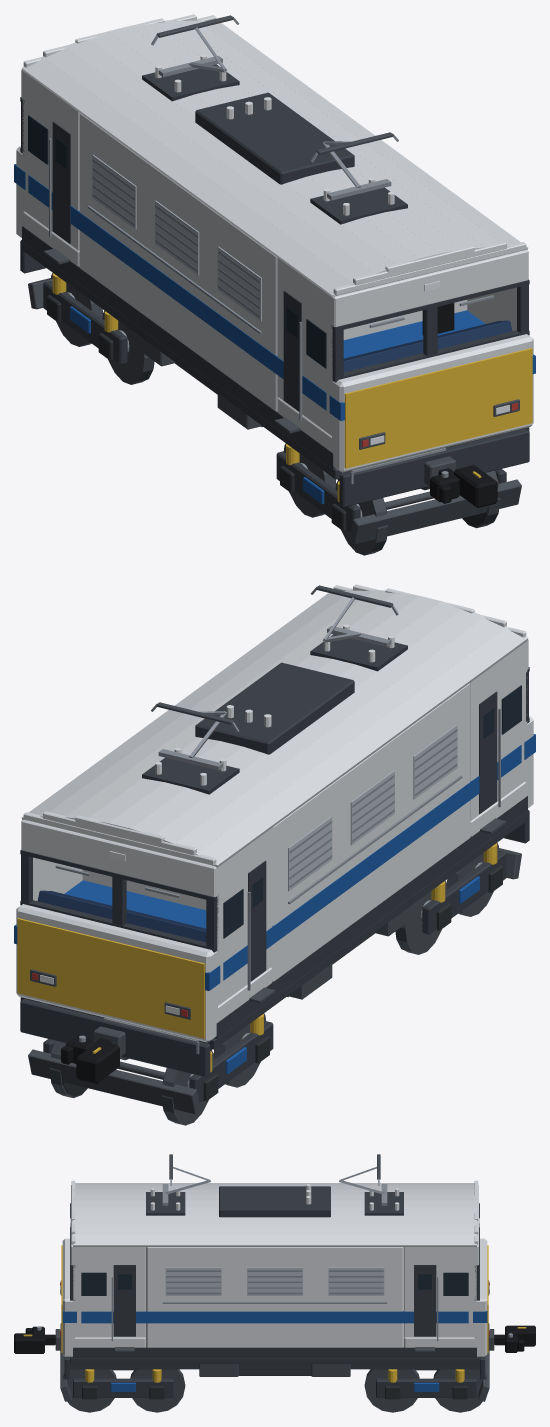
Rendered from locomotive_electrique.glb.
3 views of the same model, one above another, from view 1: azimuth 30°, elevation 25°; view 2: azimuth 150°, elevation 25°; view 3: azimuth 270°, elevation 25° (orthographic). The views are drawn at different scales.
Parts seen in each view (by area): view 1: pieces_moderne.002, pieces_moderne_sombre.002, pieces_jaune.002, pieces_moderne_bleu.002, pieces_acier_sombre.002, pieces_acier.002, pieces_gris_clair.002, pieces_panneau.002, pieces_verre_sombre.002, attelage_av_noir.002, roues_av_acier_sombre.002, pieces_fonte.002 (+4 smaller); view 2: pieces_moderne.002, pieces_moderne_sombre.002, pieces_jaune.002, pieces_moderne_bleu.002, pieces_acier_sombre.002, pieces_acier.002, pieces_gris_clair.002, pieces_panneau.002, pieces_verre_sombre.002, roues_ar_acier_sombre.002, attelage_ar_noir.002, pieces_fonte.002 (+4 smaller); view 3: pieces_moderne.002, pieces_moderne_sombre.002, pieces_moderne_bleu.002, pieces_gris_clair.002, pieces_acier.002, pieces_acier_sombre.002, pieces_verre_sombre.002, roues_ar2_acier_sombre.002, roues_av2_acier_sombre.002, roues_ar_acier_sombre.002, roues_av_acier_sombre.002, pieces_jaune.002 (+4 smaller).
Boxes of the visible parts, x1,y1,x2,y2 form: pieces_moderne.002: (16,14,533,472); pieces_moderne_sombre.002: (20,64,529,532); pieces_jaune.002: (52,273,532,502); pieces_moderne_bleu.002: (14,164,535,504); pieces_acier_sombre.002: (28,248,521,544); pieces_acier.002: (49,55,494,484); pieces_gris_clair.002: (92,155,261,321); pieces_panneau.002: (343,320,512,372); pieces_verre_sombre.002: (28,115,326,368); attelage_av_noir.002: (430,465,497,507); roues_av_acier_sombre.002: (335,470,500,555); pieces_fonte.002: (47,295,346,531); pieces_moderne.002: (16,584,533,1042); pieces_moderne_sombre.002: (20,634,529,1102); pieces_jaune.002: (17,843,497,1072); pieces_moderne_bleu.002: (14,734,535,1074); pieces_acier_sombre.002: (28,818,521,1114); pieces_acier.002: (55,625,500,1054); pieces_gris_clair.002: (288,725,457,891); pieces_panneau.002: (37,890,206,942); pieces_verre_sombre.002: (223,685,521,938); roues_ar_acier_sombre.002: (49,1040,214,1125); attelage_ar_noir.002: (61,1036,119,1083); pieces_fonte.002: (203,865,502,1101); pieces_moderne.002: (62,1180,487,1356); pieces_moderne_sombre.002: (64,1186,485,1397); pieces_moderne_bleu.002: (62,1311,487,1391); pieces_gris_clair.002: (165,1267,384,1295); pieces_acier.002: (111,1184,438,1341); pieces_acier_sombre.002: (60,1280,489,1401); pieces_verre_sombre.002: (81,1272,468,1295); roues_ar2_acier_sombre.002: (364,1369,419,1412); roues_av2_acier_sombre.002: (130,1369,185,1412); roues_ar_acier_sombre.002: (433,1369,486,1412); roues_av_acier_sombre.002: (63,1369,116,1412); pieces_jaune.002: (61,1245,488,1382).
Bounding box in the file's own units: 2.89 × 4.47 × 9.3.
